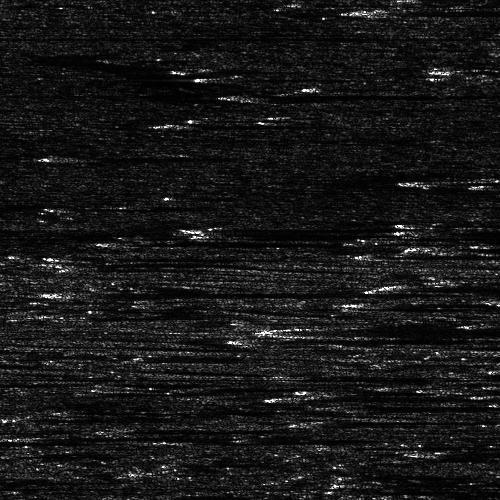object: (392, 63, 485, 74), (413, 243, 500, 254), (158, 226, 231, 239), (364, 177, 469, 186), (359, 281, 452, 290), (228, 90, 291, 101), (326, 7, 399, 16), (265, 368, 318, 379), (66, 238, 149, 245), (407, 385, 480, 392), (33, 289, 106, 296), (38, 152, 101, 159), (38, 153, 101, 160), (288, 326, 351, 333), (347, 299, 410, 306), (445, 321, 500, 326), (141, 121, 194, 126), (32, 254, 85, 259), (233, 336, 274, 341), (287, 394, 318, 397), (336, 405, 367, 408), (483, 298, 500, 303)
shadow: (260, 90, 500, 101), (70, 289, 422, 296), (195, 226, 317, 239), (292, 368, 420, 379), (69, 152, 251, 159), (69, 153, 251, 160), (319, 326, 500, 333), (108, 238, 288, 245), (363, 7, 500, 16), (254, 336, 500, 341), (379, 299, 500, 306), (406, 281, 500, 290), (417, 177, 500, 186), (438, 63, 500, 74), (0, 223, 126, 228), (167, 121, 290, 126), (0, 226, 64, 235), (303, 394, 495, 397), (459, 243, 500, 254), (352, 405, 500, 408), (0, 236, 88, 241), (443, 385, 500, 392), (59, 254, 117, 259)
